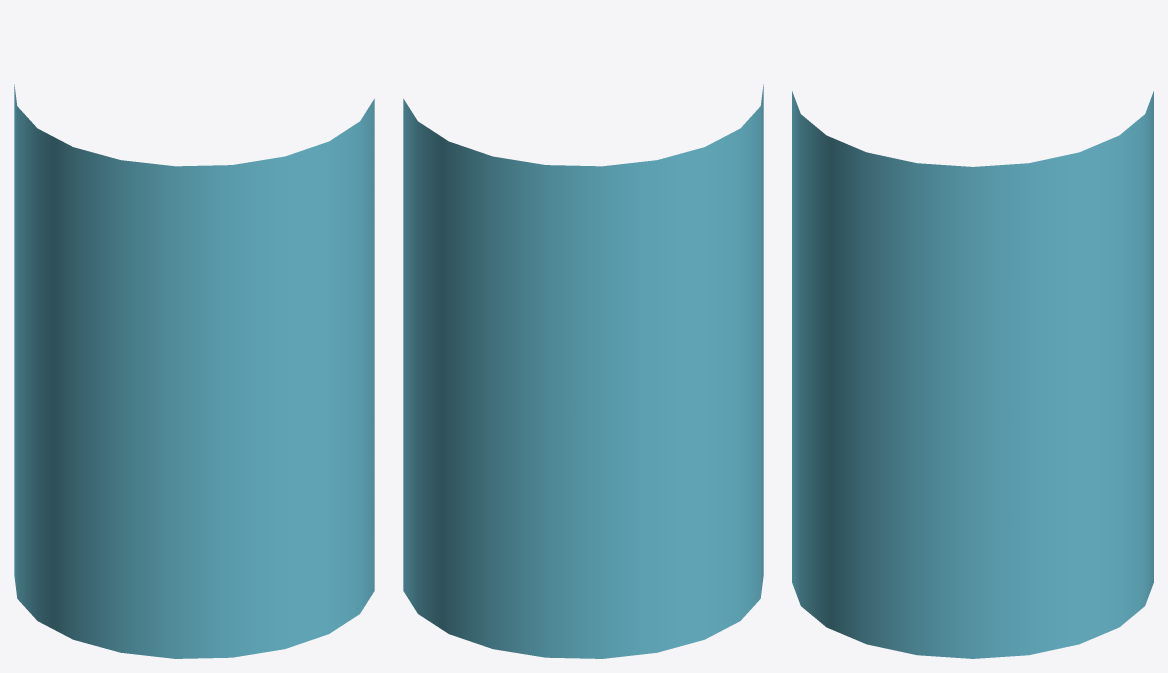
File: ideal_gas_law.glb
3 renders of one model, left to right at view 1: azimuth 30°, elevation 25°; view 2: azimuth 150°, elevation 25°; view 3: azimuth 270°, elevation 25°, orthographic.
Visible parts, largest first — view 1: PistonCylinderBody; view 2: PistonCylinderBody; view 3: PistonCylinderBody.
Boxes of the visible parts, left/top/right/bottom form: PistonCylinderBody: left=14, top=84, right=374, bottom=658; PistonCylinderBody: left=403, top=84, right=763, bottom=658; PistonCylinderBody: left=792, top=91, right=1153, bottom=658.
Size of the model in its own units: 1.2 by 1.8 by 1.2.
